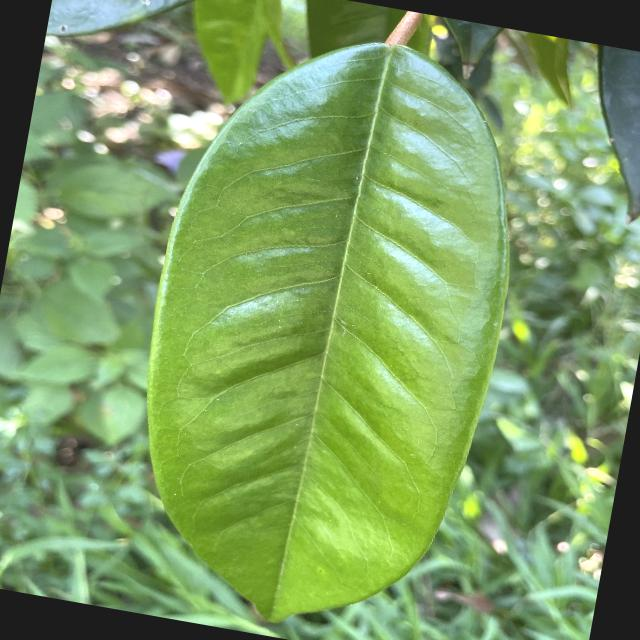No Disease: (93, 0, 560, 639)
